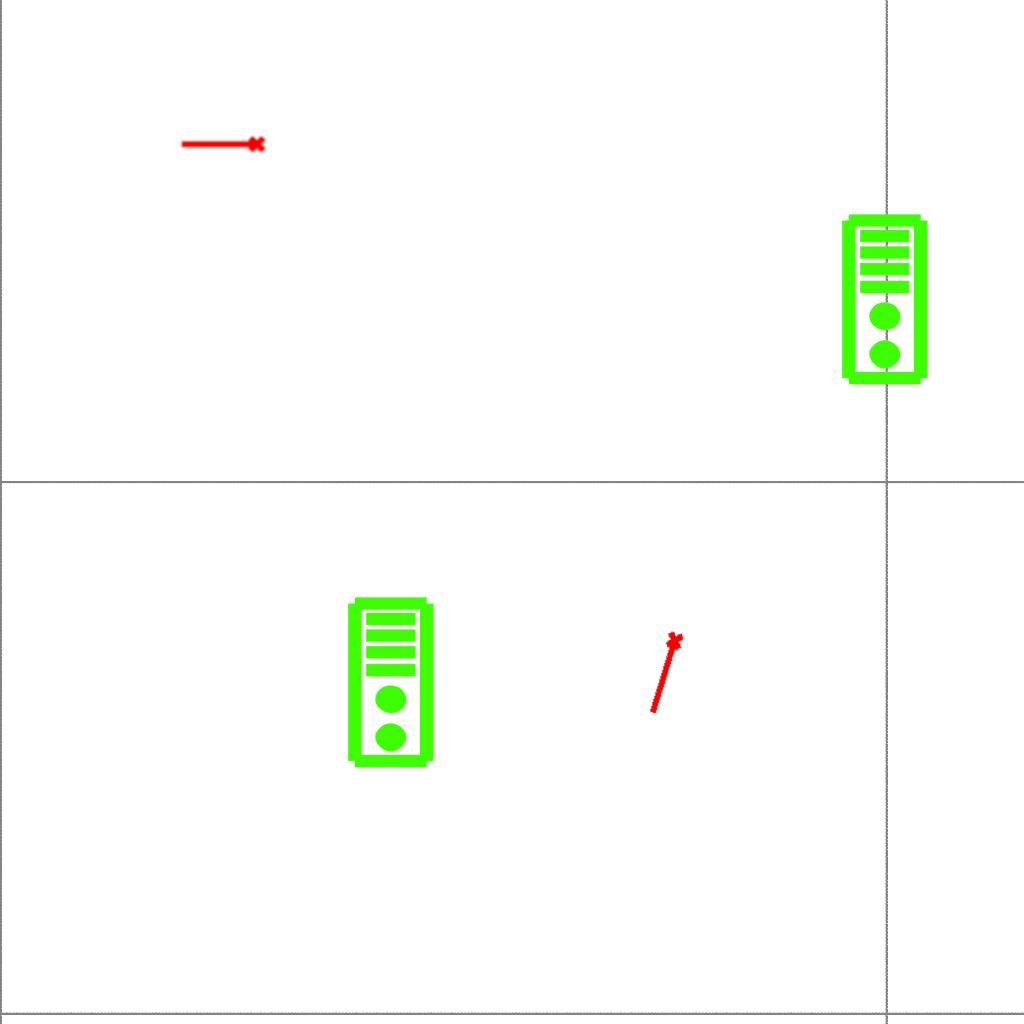ASR_Ansaugoeffnung: (642, 628, 690, 719), (179, 134, 267, 157)
Gegensprechanlage_mit_Video: (839, 212, 934, 388), (345, 595, 440, 771)
